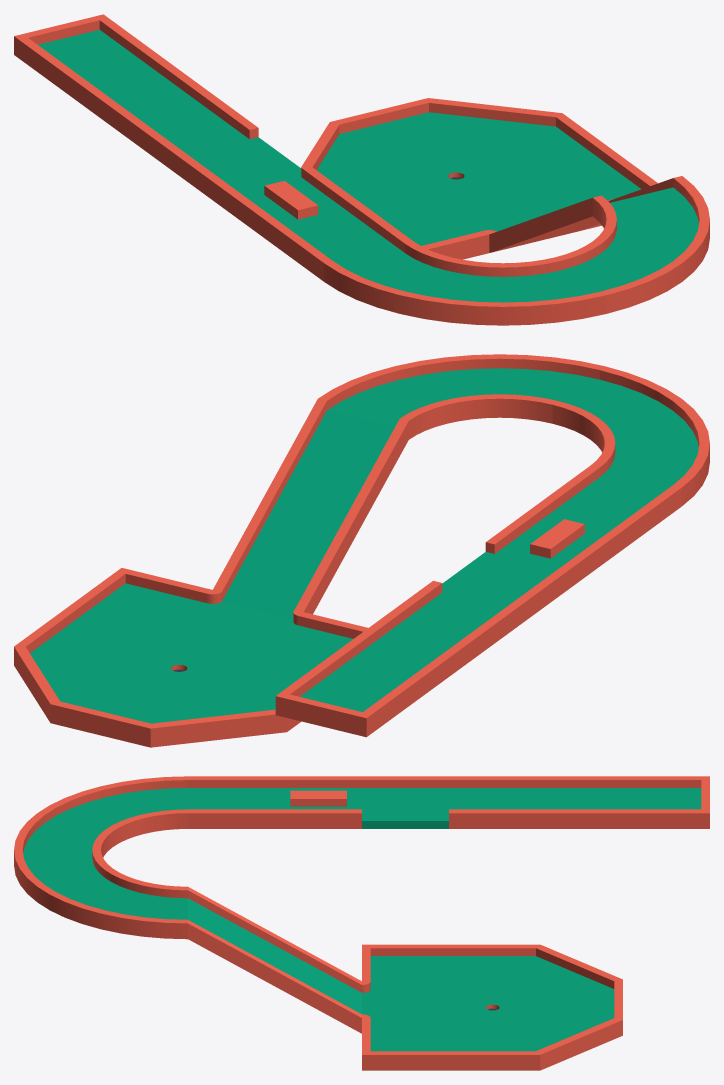
Rendered from Hole4Unmerged.obj.
3 views of the same model, one above another, from view 1: azimuth 30°, elevation 25°; view 2: azimuth 150°, elevation 25°; view 3: azimuth 270°, elevation 25° (orthographic). The views are drawn at different scales.
Parts seen in each view (by area): view 1: mergedBlocks; view 2: mergedBlocks; view 3: mergedBlocks.
Part boxes in pixels (box(x1,y1,x2,y2)): mergedBlocks: box(14, 14, 709, 325); mergedBlocks: box(14, 354, 709, 747); mergedBlocks: box(14, 776, 709, 1070).
Size of the model in its own units: 5 by 1.4 by 8.
